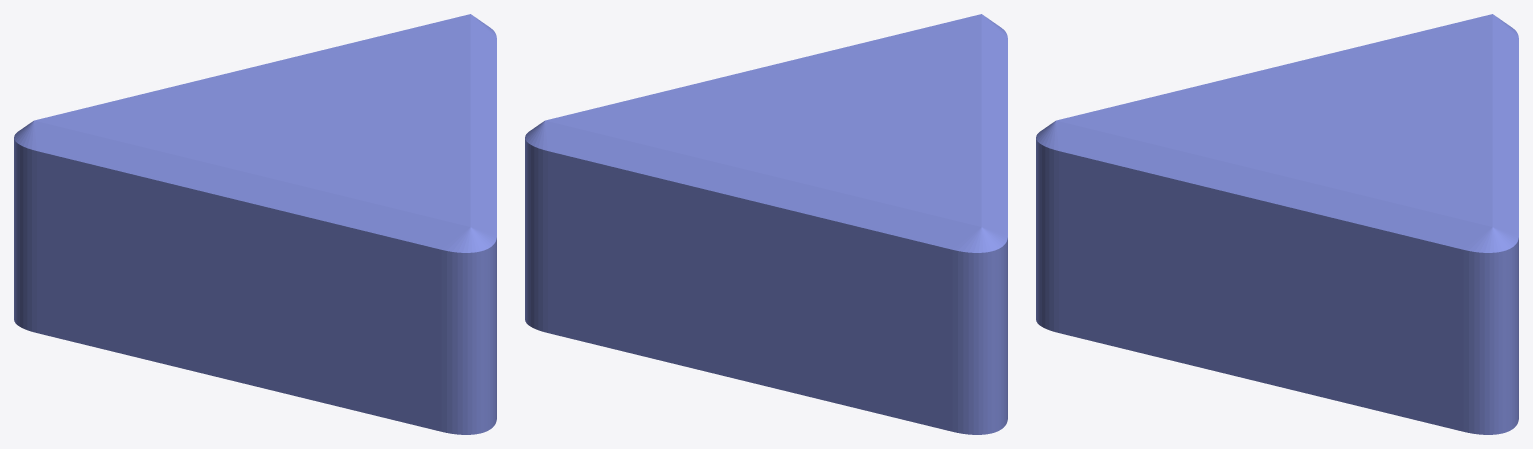
Rendered from buffer.fbx.
3 views of the same model, side by side, from view 1: azimuth 30°, elevation 25°; view 2: azimuth 150°, elevation 25°; view 3: azimuth 270°, elevation 25° (orthographic).
Parts seen in each view (by area): view 1: Buffer; view 2: Buffer; view 3: Buffer.
Part boxes in pixels (x1,y1,x2,y2): Buffer: (14, 14, 496, 434); Buffer: (525, 14, 1007, 434); Buffer: (1036, 14, 1518, 434).
Bounding box in the file's own units: 128 × 51.45 × 113.
